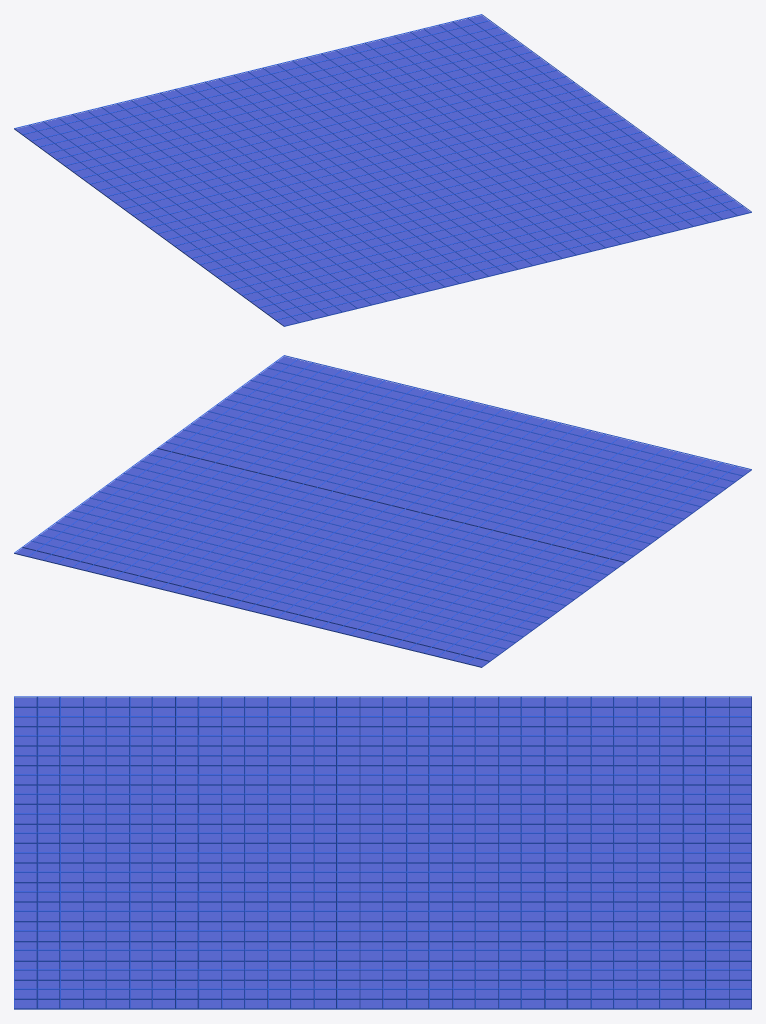
3 views of the same model, one above another, from view 1: azimuth 30°, elevation 25°; view 2: azimuth 150°, elevation 25°; view 3: azimuth 270°, elevation 25° (orthographic). The views are drawn at different scales.
Parts seen in each view (by area): view 1: Plane.001, Plane; view 2: Plane.001, Plane; view 3: Plane.001, Plane.
Boxes of the visible parts, <box> form: Plane.001: <box>15,15,749,325</box>; Plane: <box>14,14,751,326</box>; Plane.001: <box>16,356,750,666</box>; Plane: <box>14,355,751,667</box>; Plane.001: <box>14,698,751,1008</box>; Plane: <box>14,696,751,1009</box>.
Bounding box in the file's own units: 9815 × 22.24 × 9815.
